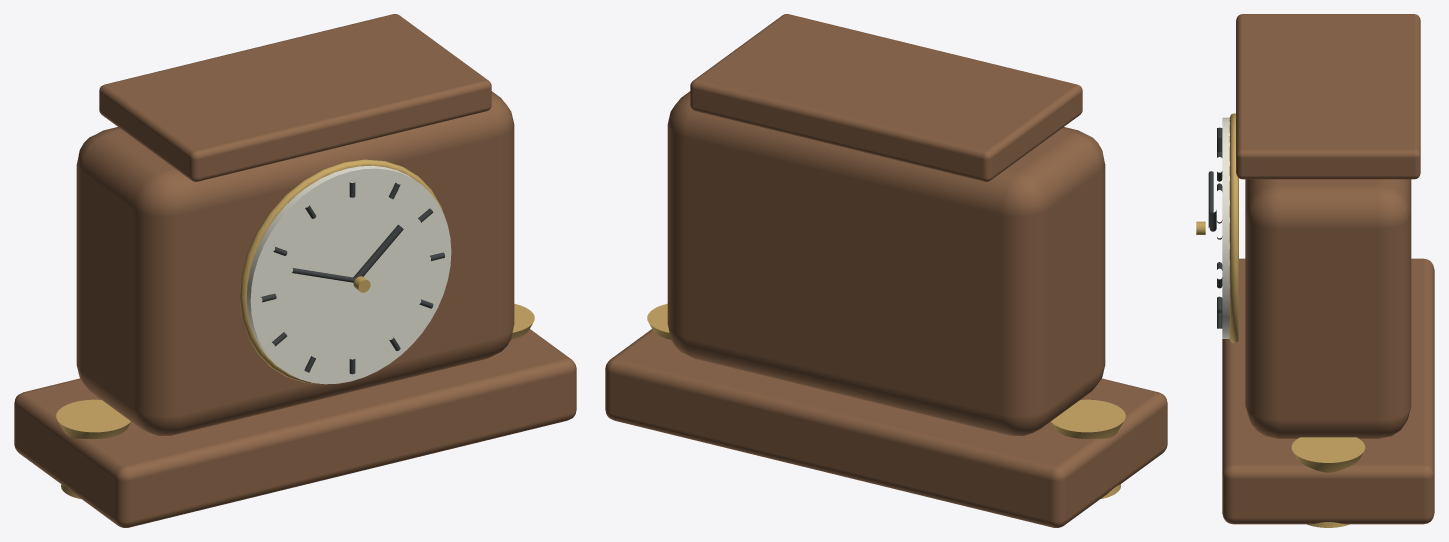
The model's file is clockmaker-and-watch-repair-mantel-clock-2ad69737__30639.glb.
The picture shows the model from 3 angles, left to right: view 1: azimuth 30°, elevation 25°; view 2: azimuth 150°, elevation 25°; view 3: azimuth 270°, elevation 25°; orthographic projection. The views are drawn at different scales.
Visible parts, largest first — view 1: mantel-clock; view 2: mantel-clock; view 3: mantel-clock.
Part boxes in pixels (bbox=[...]): mantel-clock: bbox=[14, 14, 576, 527]; mantel-clock: bbox=[605, 14, 1167, 527]; mantel-clock: bbox=[1196, 14, 1434, 527].
Size of the model in its own units: 0.56 by 0.405 by 0.258.
